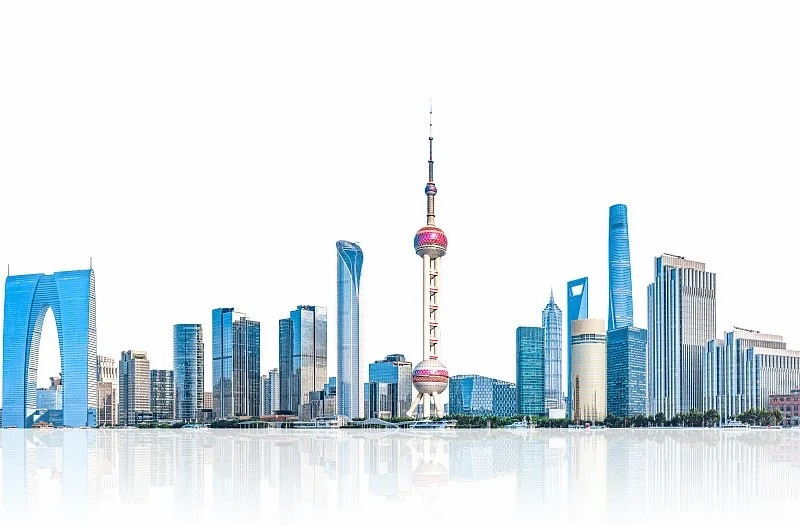Oriental: (407, 97, 449, 419)
